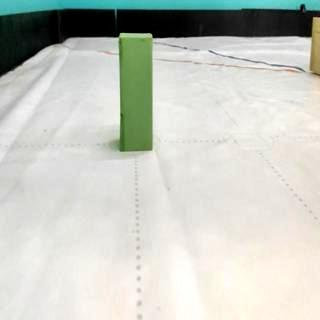greenbox: (118, 31, 156, 152)
